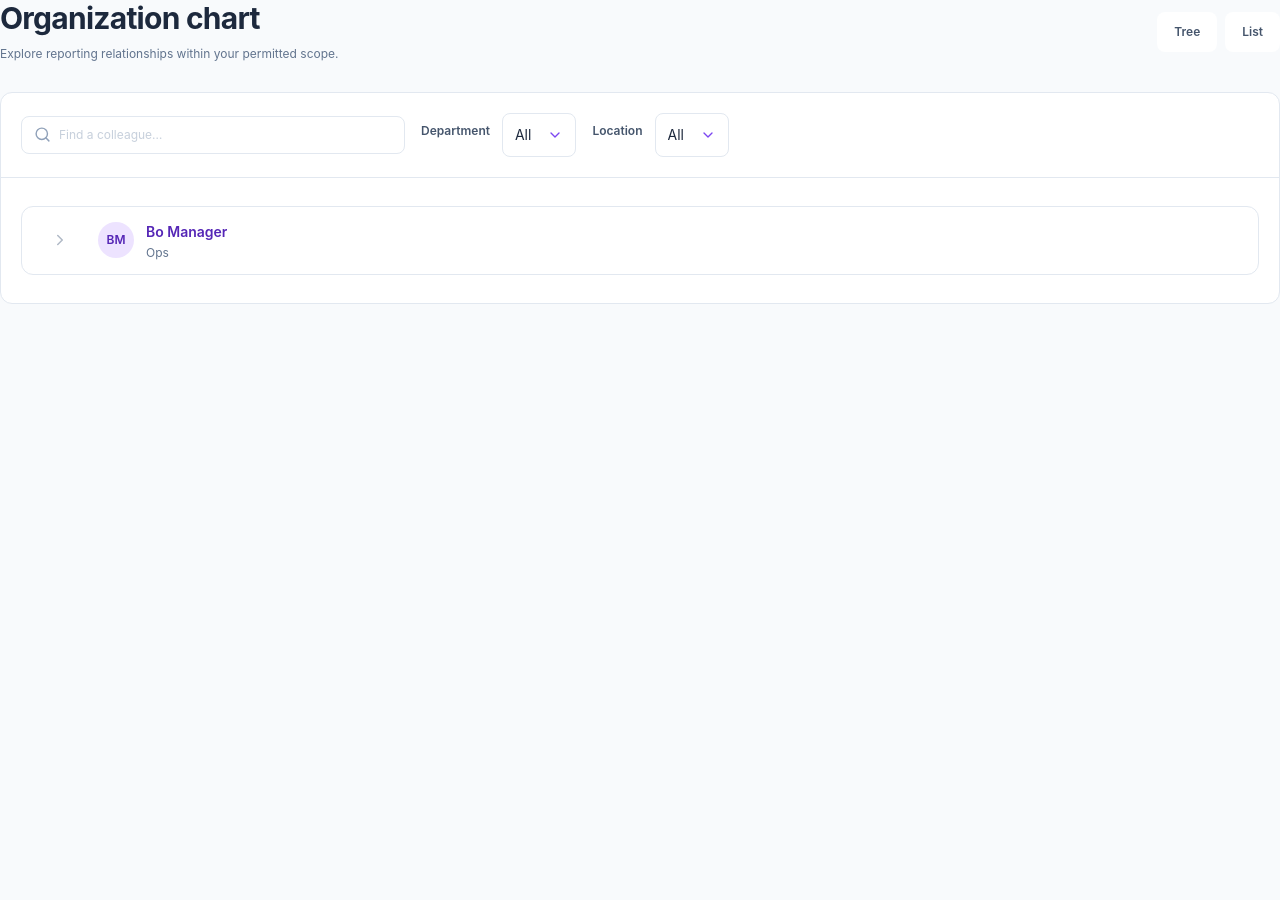
Test: Org chart › opens a preview drawer from a node name
Click the button "Bo Manager".
click(187, 232)  # box [146, 222, 227, 242]
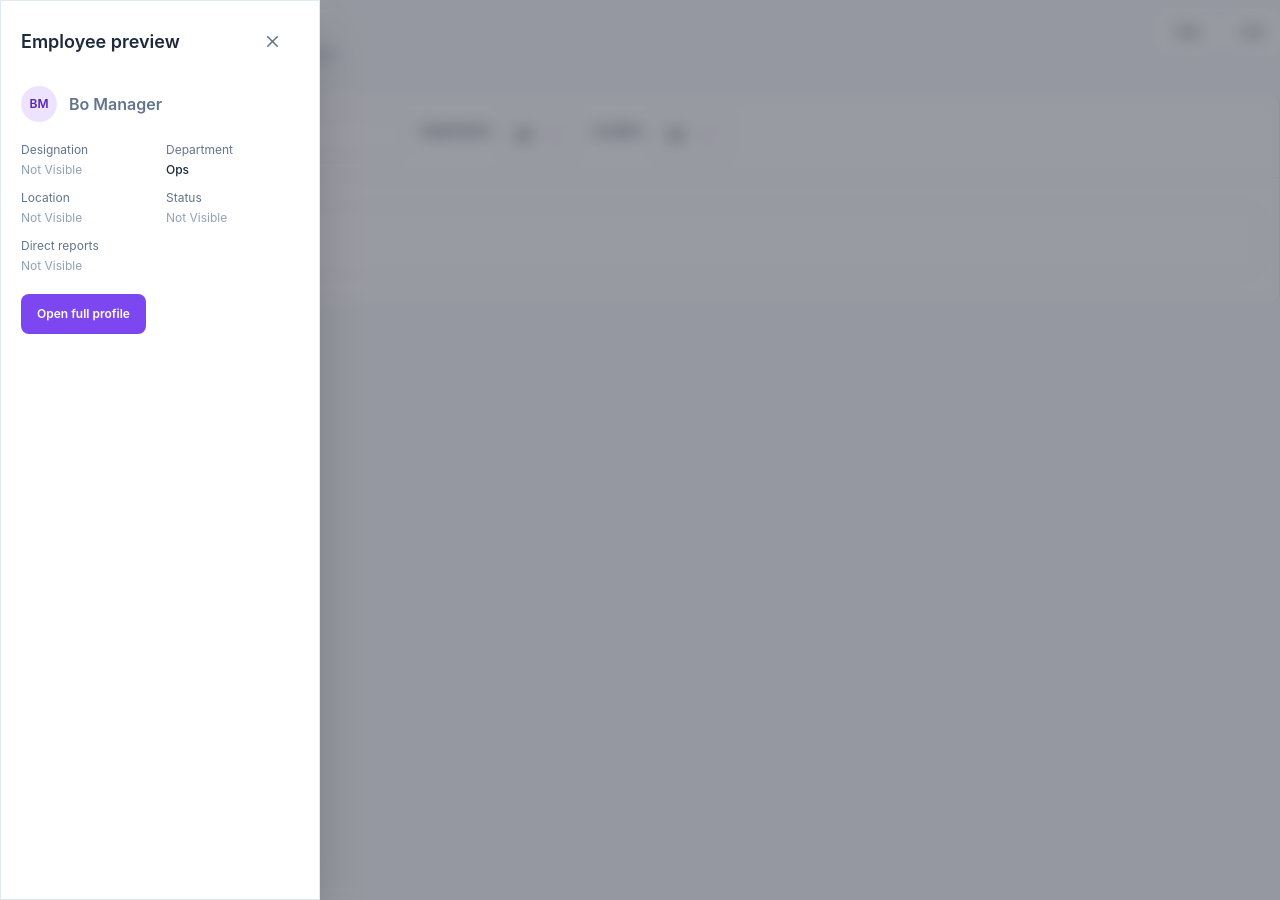
Check: the text "Ops" is shown, box [166, 162, 189, 177]
